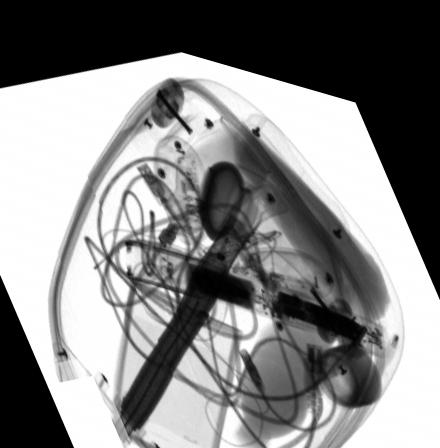Baton: (122, 229, 386, 335)
